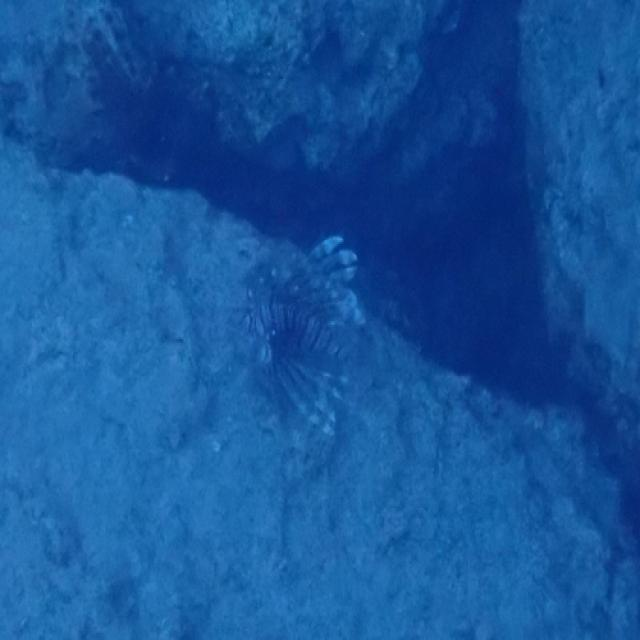Aslan Baligi: (241, 232, 367, 456)
